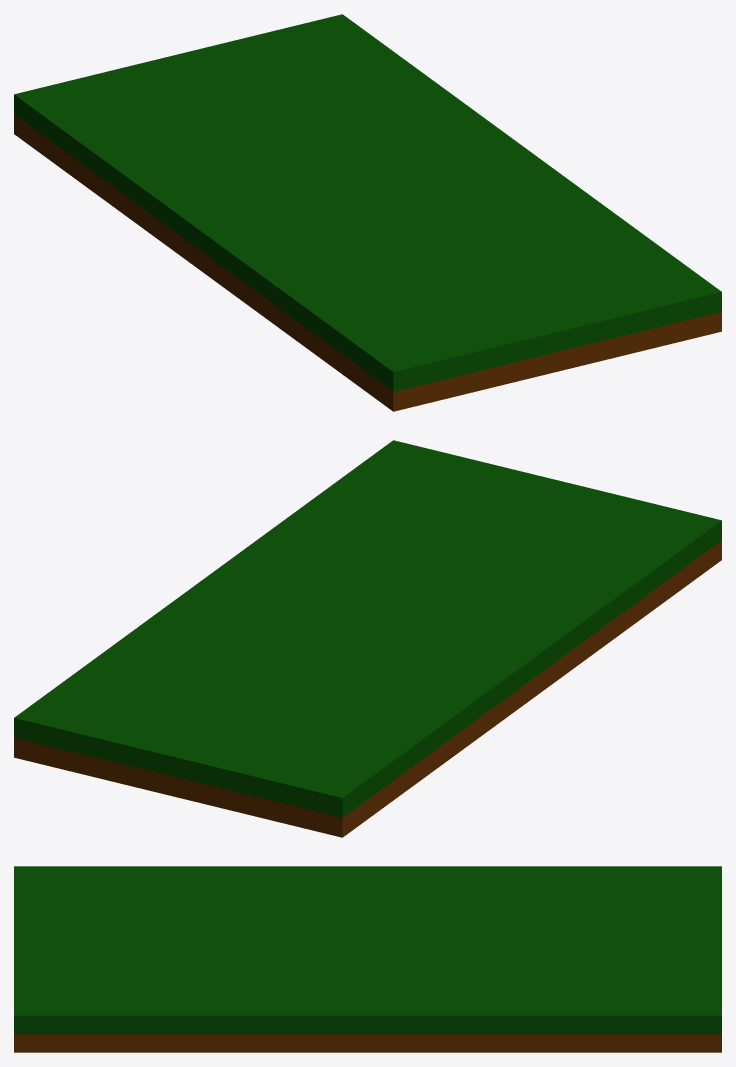
File: PIEZA ESCENARIO 4.fbx
3 views of the same model, one above another, from view 1: azimuth 30°, elevation 25°; view 2: azimuth 150°, elevation 25°; view 3: azimuth 270°, elevation 25° (orthographic). The views are drawn at different scales.
Parts seen in each view (by area): view 1: Suelo 1.004; view 2: Suelo 1.004; view 3: Suelo 1.004.
Part boxes in pixels (box(x1,y1,x2,y2)): Suelo 1.004: box(14, 14, 721, 411); Suelo 1.004: box(14, 440, 721, 837); Suelo 1.004: box(14, 866, 721, 1052).
Bounding box in the file's own units: 1414 × 163 × 2829.
